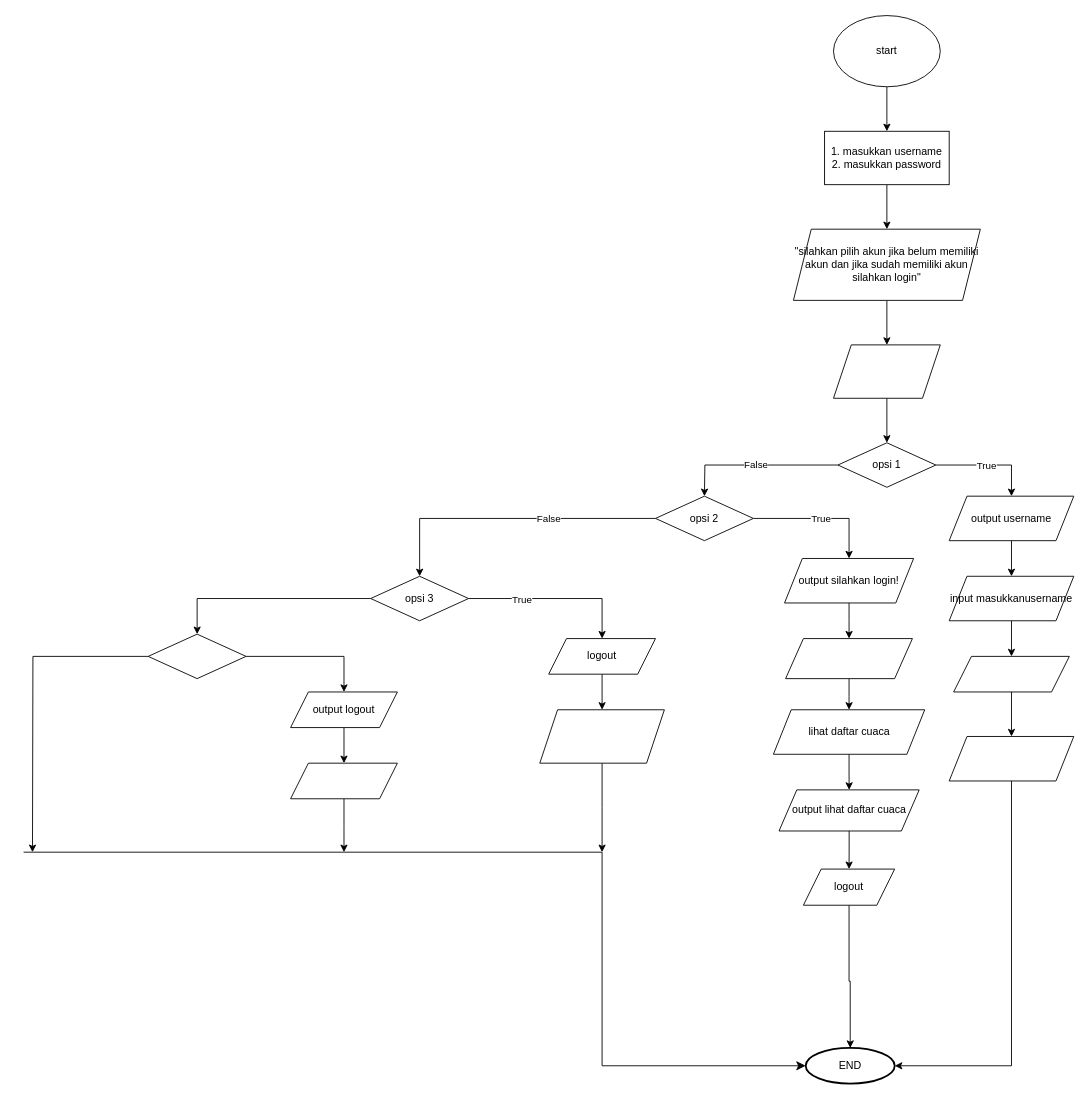
Image size: 1089x1100. Some labels were removed from this diagram. The shapes that lost their labels are listed below. From the top down, each one's box as (x1, y1, x2, y2) in pixels, then its label:
(833, 344, 940, 398): login
(147, 633, 246, 679): opsi 4
(785, 638, 912, 679): login berhasil!
(953, 655, 1069, 692): output password
(539, 709, 664, 763): output apakah anda yakkin ingin logout?
(948, 736, 1074, 781): input masukkanpassword
(290, 762, 397, 799): input loggout berhasil
